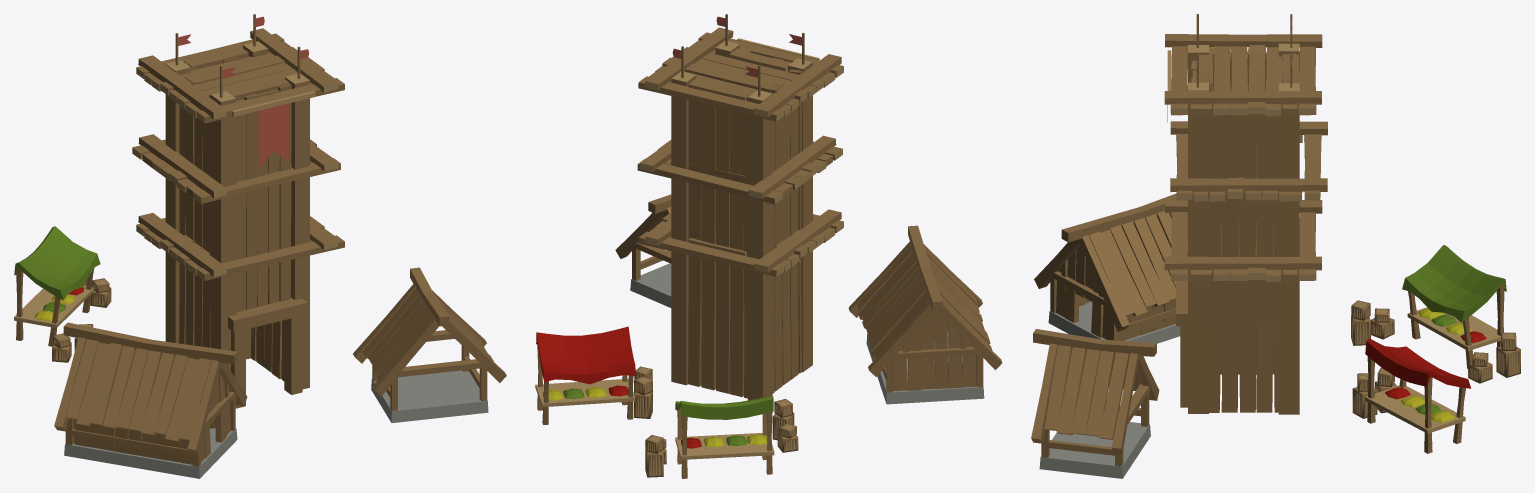
Rendered from clanhold-MC-V.glb.
3 renders of one model, left to right at view 1: azimuth 30°, elevation 25°; view 2: azimuth 150°, elevation 25°; view 3: azimuth 270°, elevation 25°, orthographic. The views are drawn at different scales.
Parts seen in each view (by area): view 1: WatchTower_FirstAge_Level3, Houses_FirstAge_1_Level3, Houses_FirstAge_1_Level1, Market_FirstAge_Level1; view 2: WatchTower_FirstAge_Level3, Houses_FirstAge_1_Level3, Market_FirstAge_Level1, Houses_FirstAge_1_Level1; view 3: WatchTower_FirstAge_Level3, Market_FirstAge_Level1, Houses_FirstAge_1_Level3, Houses_FirstAge_1_Level1.
Boxes of the visible parts, box(x1,y1,x2,y2) form: WatchTower_FirstAge_Level3: box(132, 14, 344, 408); Houses_FirstAge_1_Level3: box(54, 322, 247, 478); Houses_FirstAge_1_Level1: box(353, 267, 506, 422); Market_FirstAge_Level1: box(14, 226, 111, 362); WatchTower_FirstAge_Level3: box(637, 14, 843, 400); Houses_FirstAge_1_Level3: box(848, 225, 1002, 404); Market_FirstAge_Level1: box(535, 326, 798, 478); Houses_FirstAge_1_Level1: box(615, 194, 671, 307); WatchTower_FirstAge_Level3: box(1164, 14, 1327, 414); Market_FirstAge_Level1: box(1351, 245, 1520, 453); Houses_FirstAge_1_Level3: box(1034, 193, 1187, 343); Houses_FirstAge_1_Level1: box(1031, 329, 1159, 478).
Bounding box in the file's own units: 3.03 × 2.39 × 2.97.
